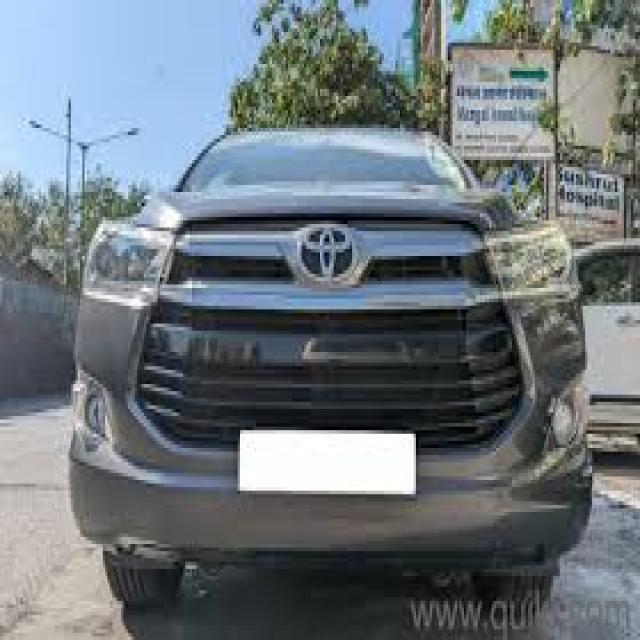light_vehicle: (69, 128, 593, 604)
